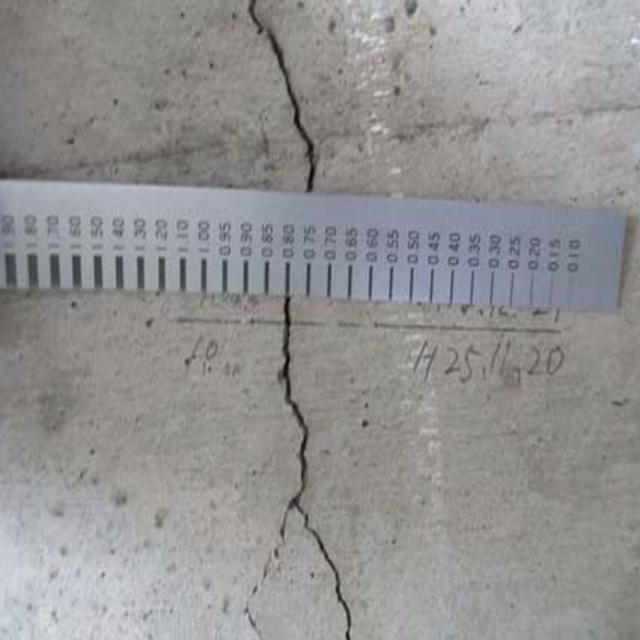crack: (248, 303, 386, 640), (243, 3, 328, 193)
